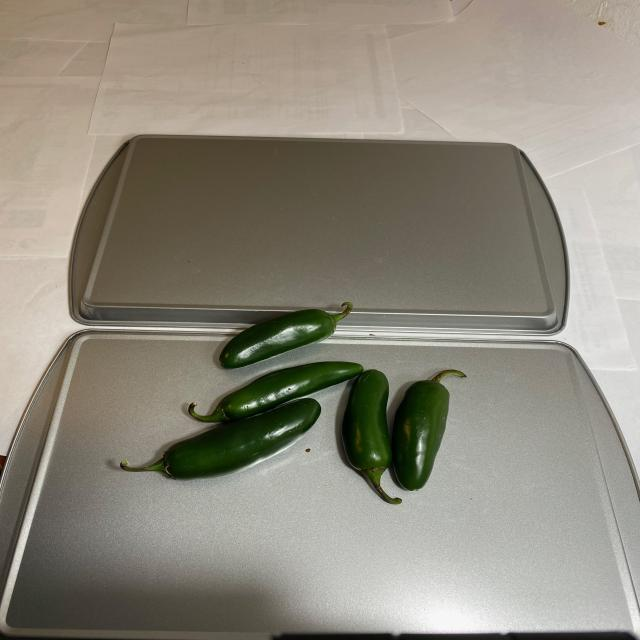chilli: (110, 295, 494, 508)
